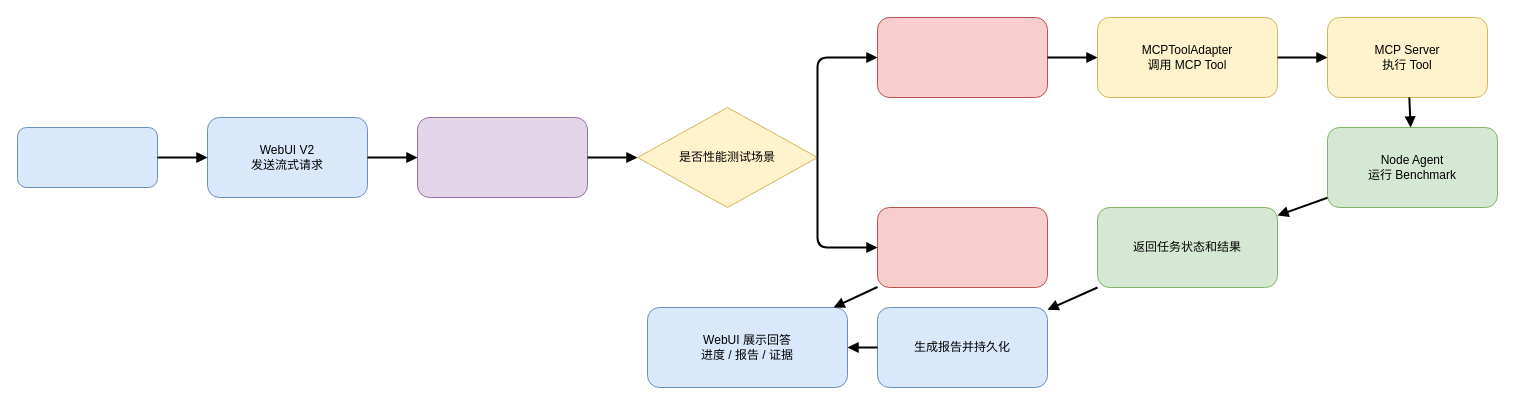
The diagram is 1515 pixels wide and 405 high, and some of its shapes have lost their labels. The centre of each missing label's shape, as x and y in pixels:
LangChain Agent 场景路由: (502,157)
ReAct / 自由对话: (962,247)
WorkflowEngine 选择场景图: (962,57)
用户输入测试需求: (87,157)
